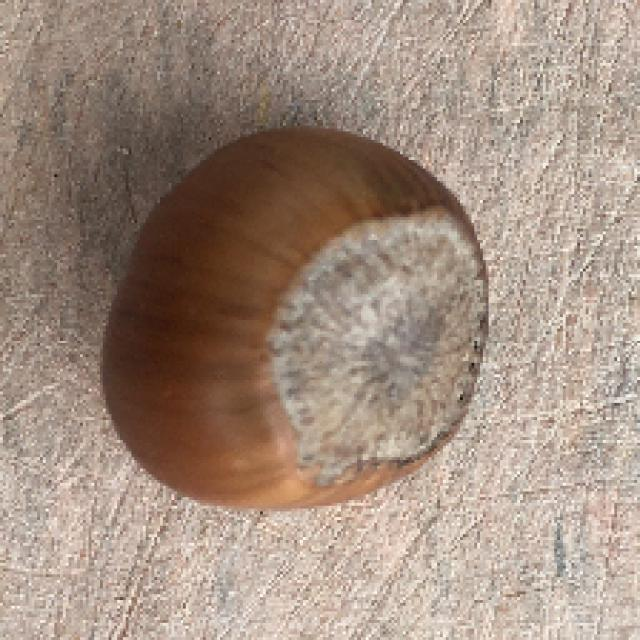qualityHazelnut: (99, 122, 494, 522)
